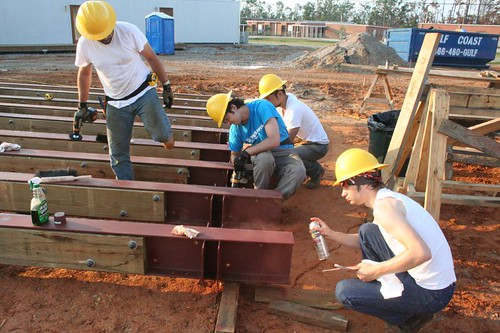person hardhat: (306, 146, 459, 332), (68, 1, 191, 181), (199, 87, 308, 203), (257, 70, 334, 191)
